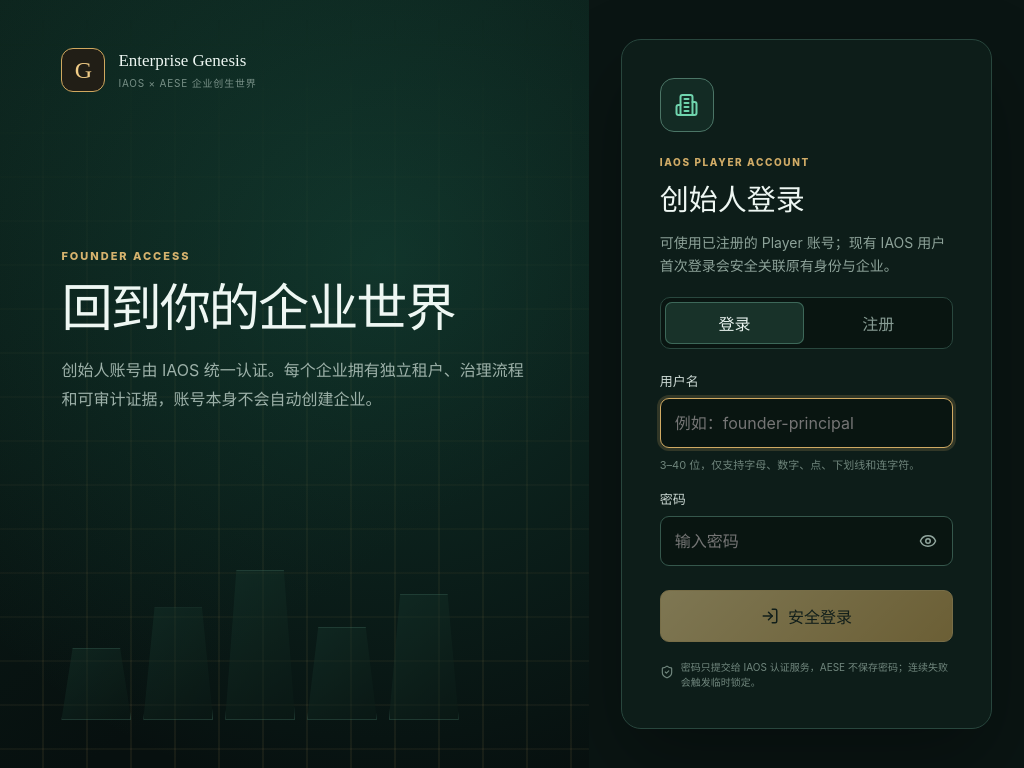
AESE game home › logs in before starting tenant provisioning
The image size is (1024, 768).
In the field labelled "用户名": (806, 423) [660,398,953,448], type "founder-principal"
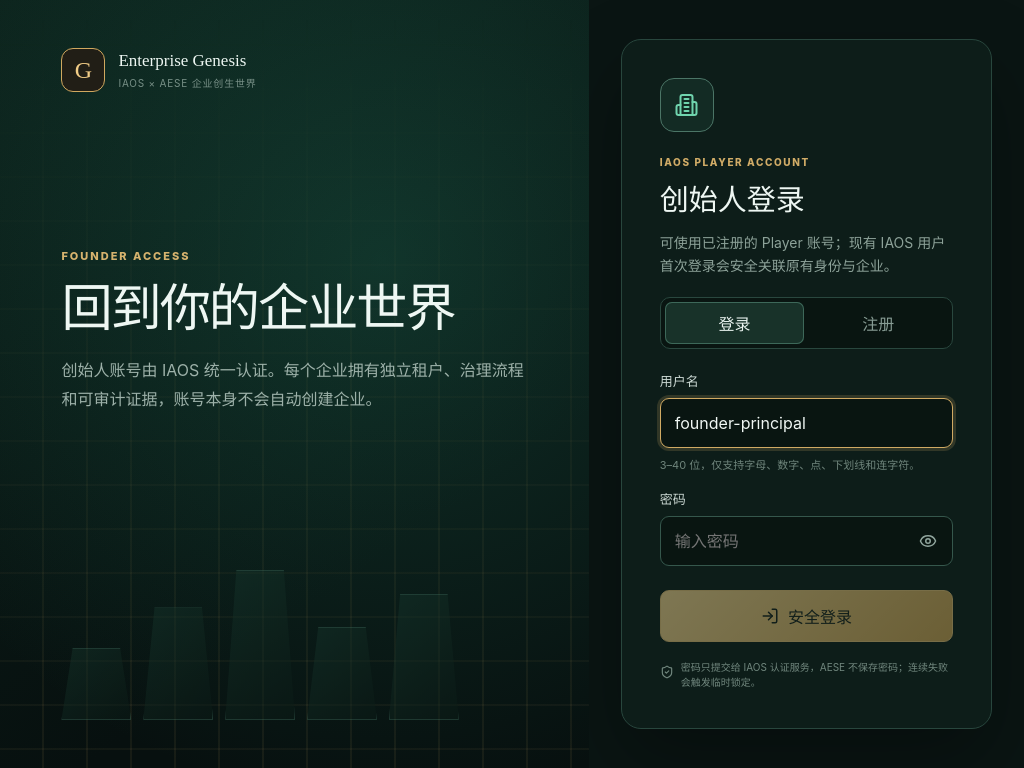
In the password field labelled "密码": (806, 541) [660,516,953,566], type "FounderPass123"
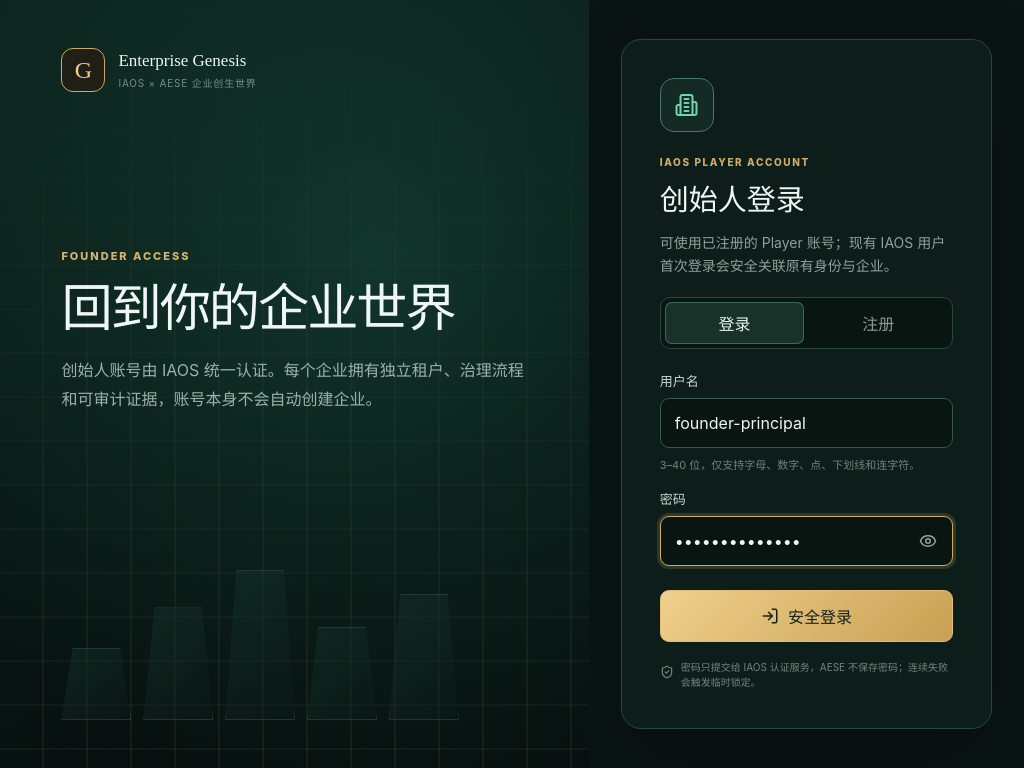
Click the button "安全登录": (806, 616) [660,590,953,642]
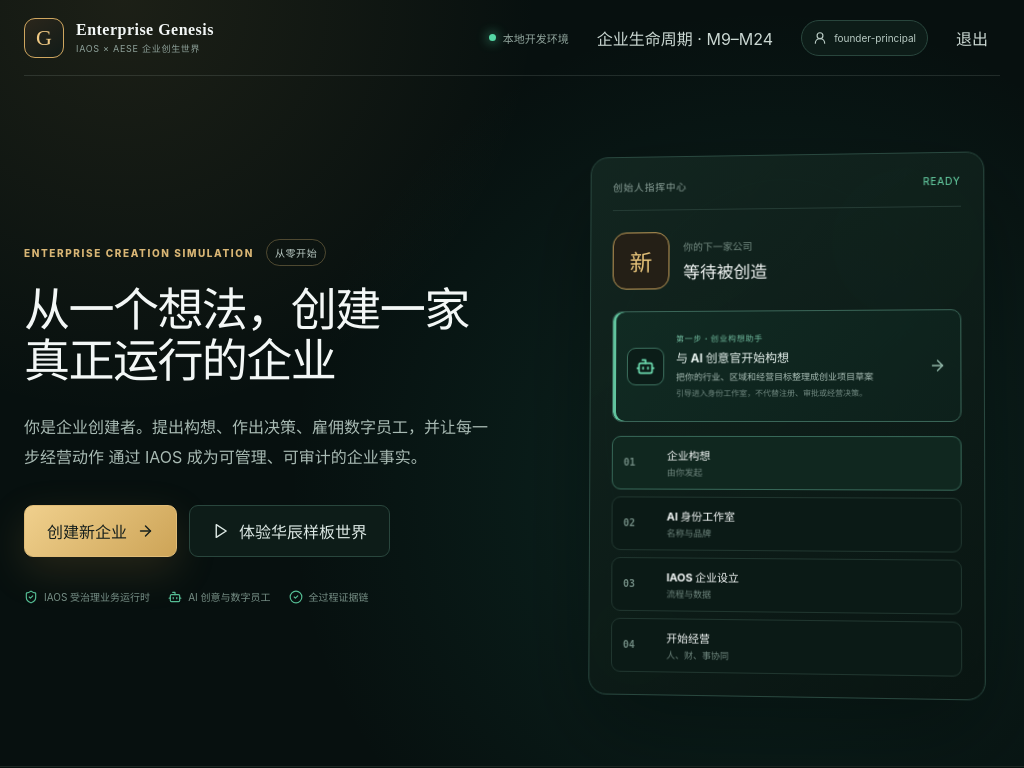
Click the button "创建新企业": (100, 531) [24,505,177,557]
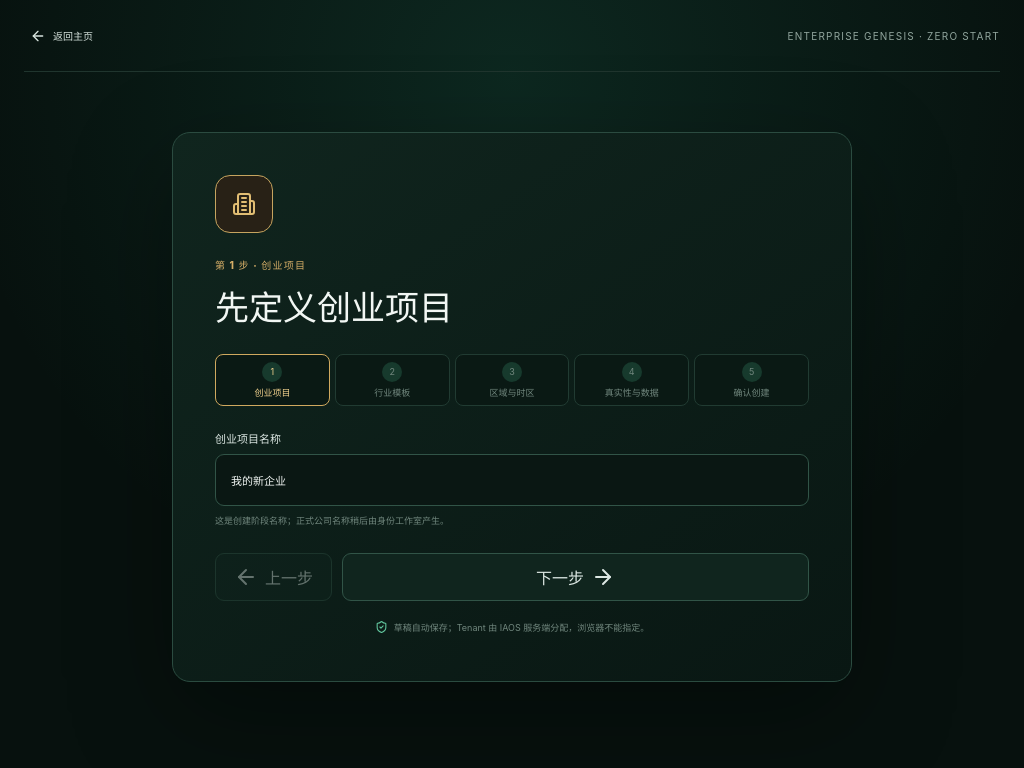
Expected: the heading "先定义创业项目" is shown, [215,290,453,327]
Expected: the button "下一步" is shown, [342,553,809,601]
